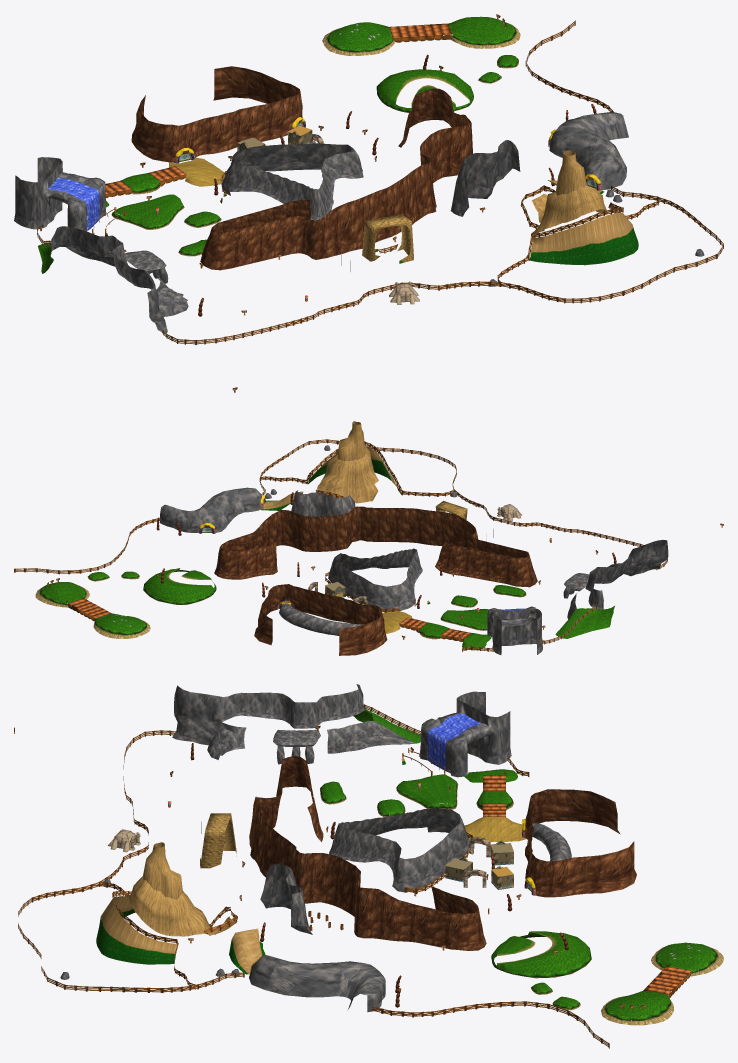
3 views of the same model, one above another, from view 1: azimuth 30°, elevation 25°; view 2: azimuth 150°, elevation 25°; view 3: azimuth 270°, elevation 25° (orthographic). The views are drawn at different scales.
Visible parts, largest first — view 1: Collision; view 2: Collision; view 3: Collision.
Part boxes in pixels (x1,y1,x2,y2): Collision: [14, 14, 723, 392]; Collision: [14, 421, 723, 655]; Collision: [14, 684, 723, 1048].
Bounding box in the file's own units: 210 × 27.43 × 193.
7 materials, 7 textured.
